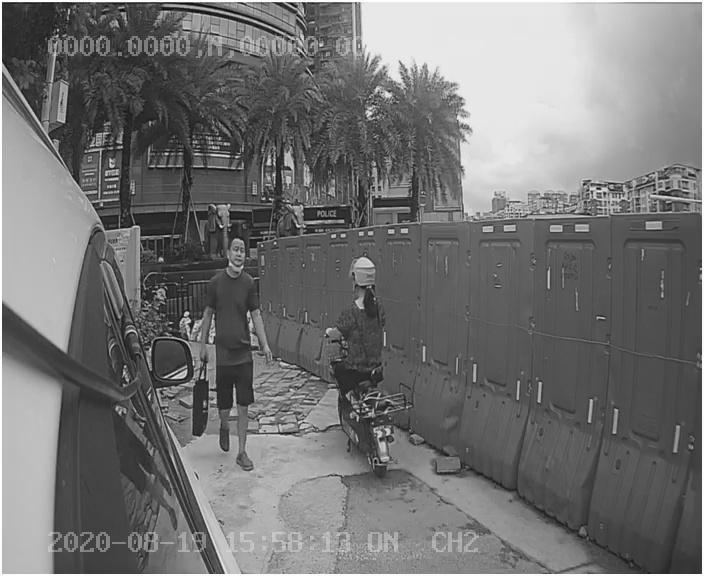person: (192, 234, 283, 476)
